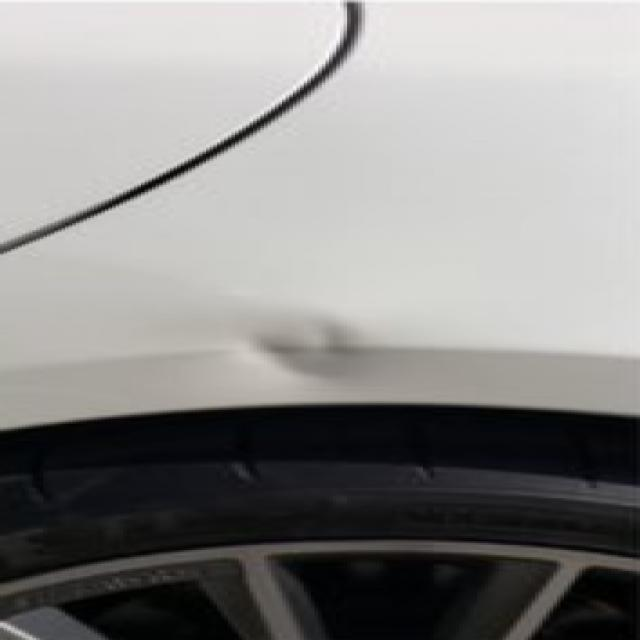dents: (237, 304, 408, 391)
